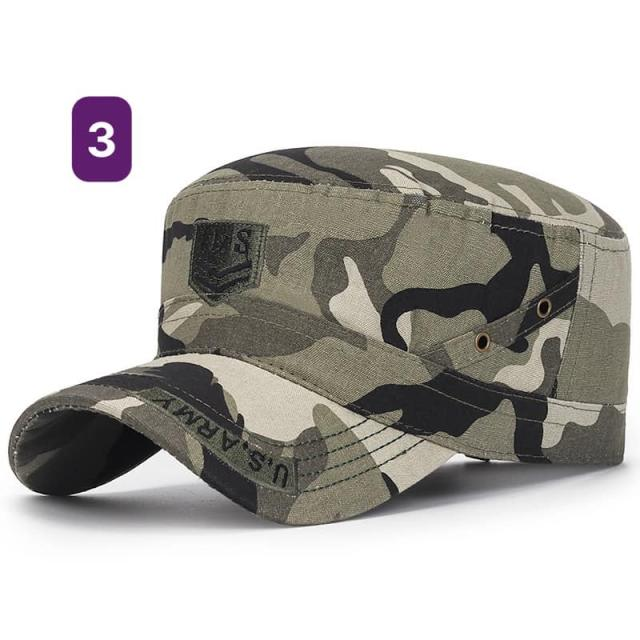Cap: (4, 130, 637, 540)
